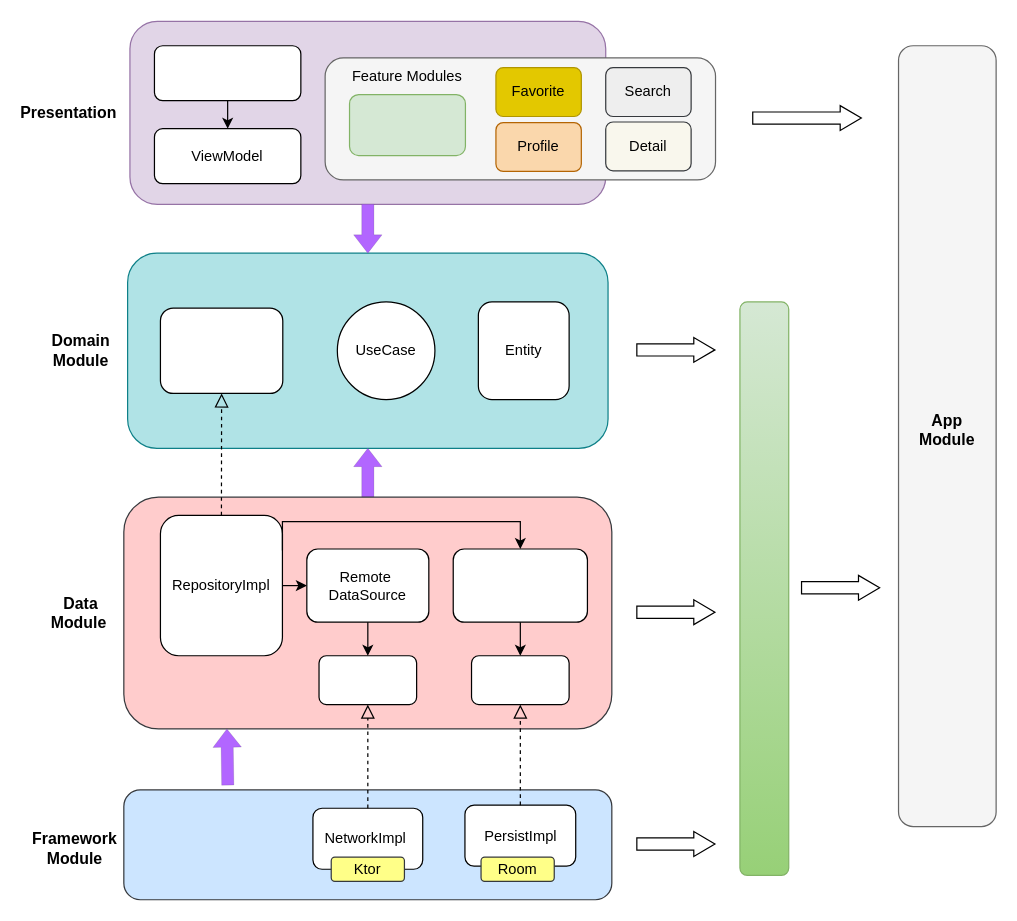
Some shapes in this 1017 by 921 pixel diagram are drawn without their labels. Each missing label, with the box of its shape:
DI: (739, 301, 789, 875)
INetwork: (318, 655, 417, 705)
IPersist: (470, 655, 569, 705)
IRepository: (159, 307, 283, 393)
Local DataSource: (452, 548, 587, 622)
Main: (348, 93, 465, 156)
UI: (153, 45, 301, 101)
